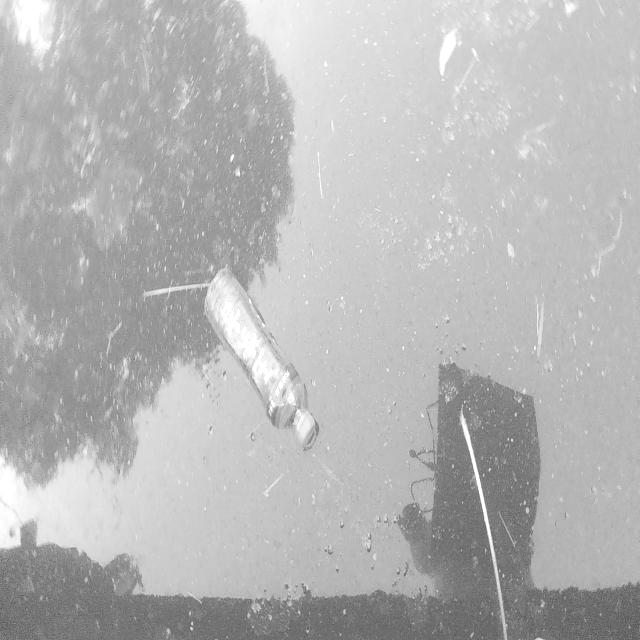bottle: (188, 234, 334, 481)
